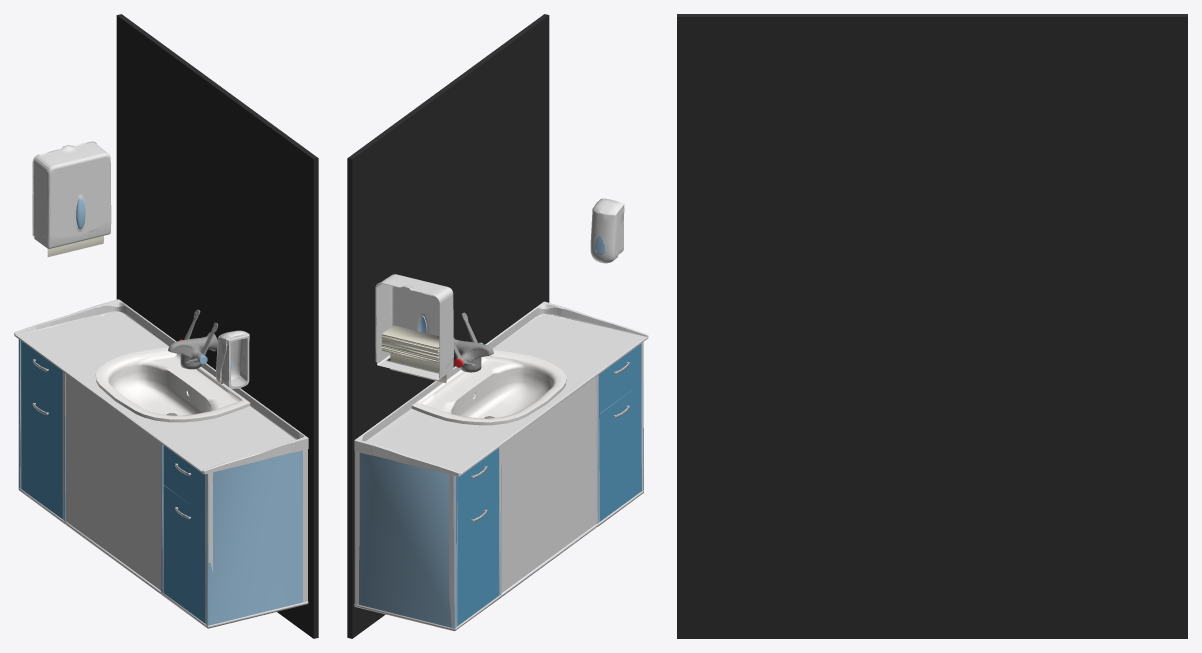
The model's file is sink.fbx.
3 renders of one model, left to right at view 1: azimuth 30°, elevation 25°; view 2: azimuth 150°, elevation 25°; view 3: azimuth 270°, elevation 25°, orthographic. The views are drawn at different scales.
Visible parts, largest first — view 1: mirror2a; view 2: mirror2a; view 3: mirror2a.
Boxes of the visible parts, <box> form: mirror2a: <box>14,14,318,638</box>; mirror2a: <box>347,14,648,638</box>; mirror2a: <box>677,14,1187,638</box>.
Bounding box in the file's own units: 53.49 × 224 × 166.
